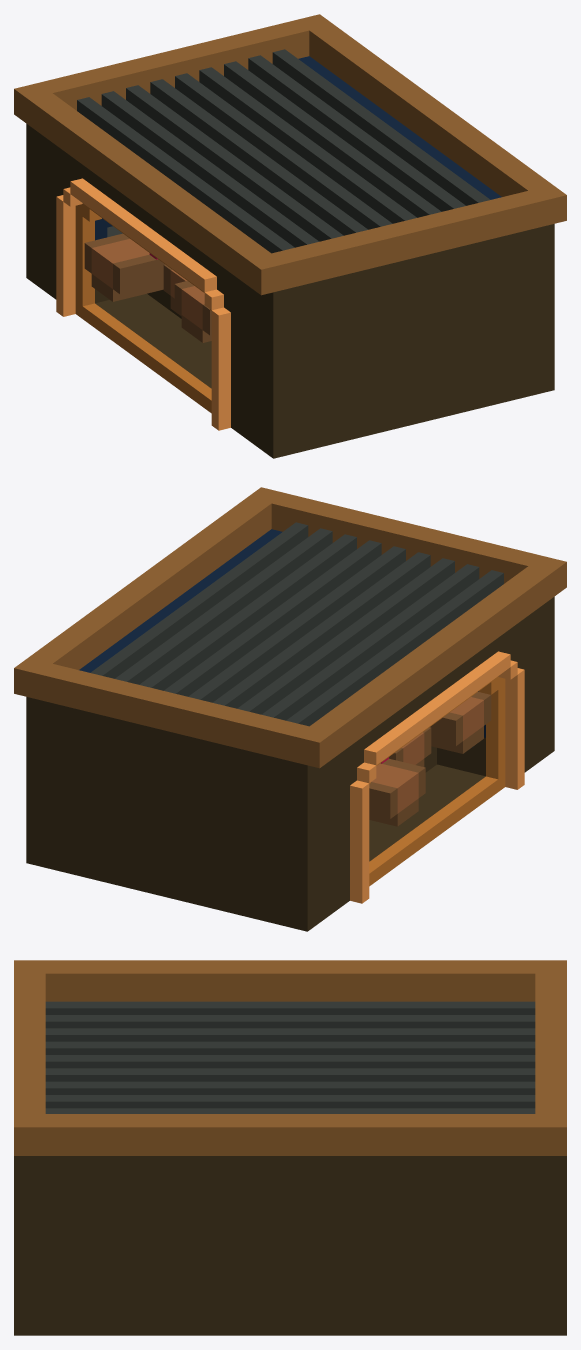
Rendered from tal.fbx.
3 views of the same model, one above another, from view 1: azimuth 30°, elevation 25°; view 2: azimuth 150°, elevation 25°; view 3: azimuth 270°, elevation 25° (orthographic). The views are drawn at different scales.
Parts seen in each view (by area): view 1: tal:tal; view 2: tal:tal; view 3: tal:tal.
Boxes of the visible parts, x1=… form: tal:tal: x1=14, y1=14, x2=566, y2=458; tal:tal: x1=14, y1=487, x2=566, y2=931; tal:tal: x1=14, y1=960, x2=566, y2=1335.
Bounding box in the file's own units: 25 × 15 × 35.
